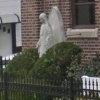Statue: (29, 5, 73, 57)
